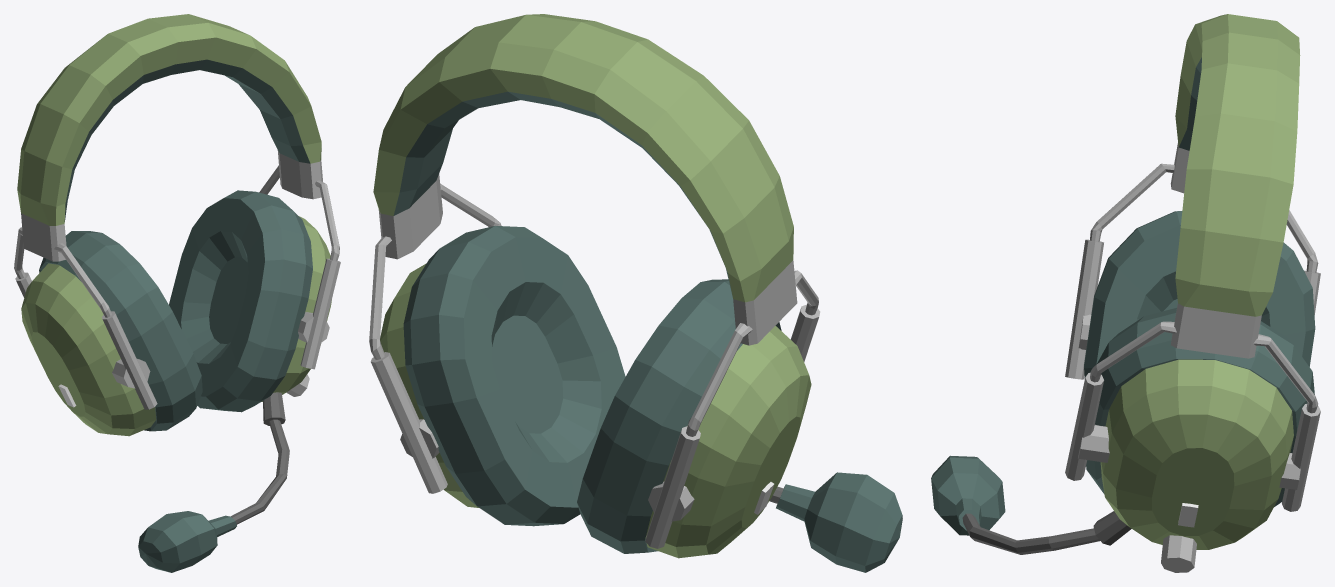
Rendered from Razer Headphones.fbx.
3 views of the same model, side by side, from view 1: azimuth 30°, elevation 25°; view 2: azimuth 150°, elevation 25°; view 3: azimuth 270°, elevation 25° (orthographic). The views are drawn at different scales.
Visible parts, largest first — view 1: Circle.003, Headphones.001, Cylinder.010, Cylinder.008; view 2: Circle.003, Headphones.001, Cylinder.010, Cylinder.008; view 3: Circle.003, Headphones.001, Cylinder.010, Cylinder.008, Cylinder.009.
Part boxes in pixels (x1=…): Circle.003: x1=21, y1=190, x2=331, y2=436; Headphones.001: x1=17, y1=14, x2=322, y2=261; Cylinder.010: x1=14, y1=165, x2=340, y2=409; Cylinder.008: x1=138, y1=392, x2=289, y2=572; Circle.003: x1=380, y1=226, x2=811, y2=558; Headphones.001: x1=373, y1=14, x2=797, y2=345; Cylinder.010: x1=369, y1=184, x2=820, y2=548; Cylinder.008: x1=769, y1=472, x2=902, y2=572; Circle.003: x1=1084, y1=211, x2=1315, y2=549; Headphones.001: x1=1170, y1=14, x2=1300, y2=358; Cylinder.010: x1=1065, y1=163, x2=1320, y2=511; Cylinder.008: x1=931, y1=455, x2=1131, y2=554; Cylinder.009: x1=1161, y1=535, x2=1196, y2=572.
Bounding box in the file's own units: 136 × 206 × 131.
